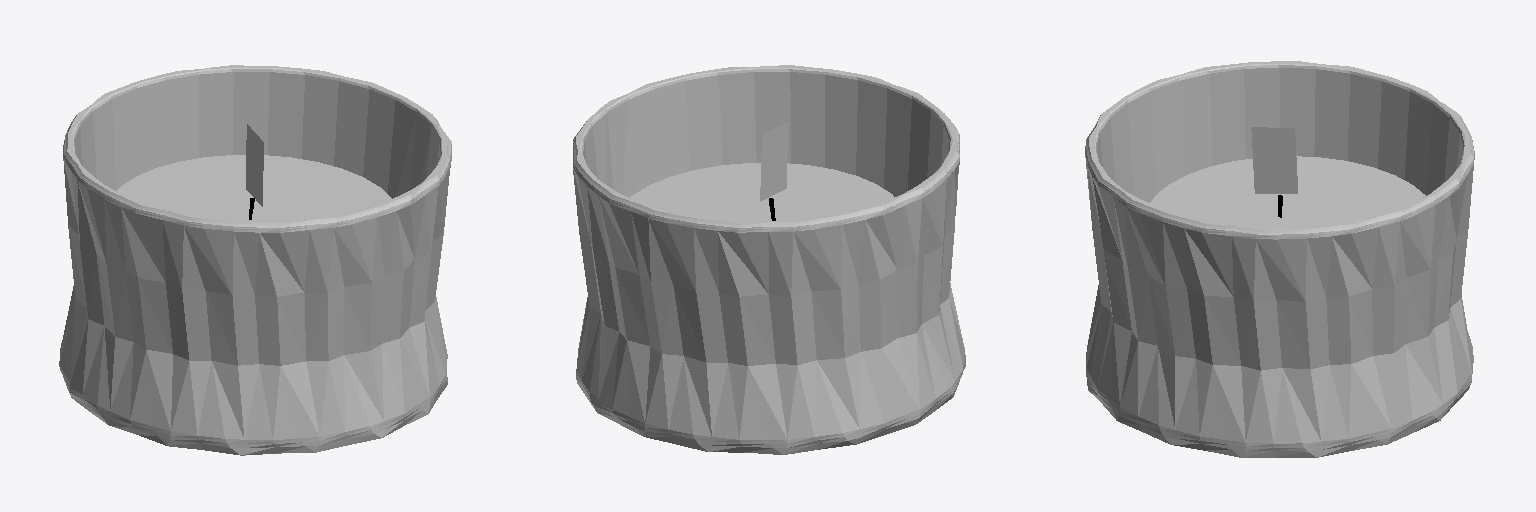
File: glass5.obj
3 views of the same model, side by side, from view 1: azimuth 30°, elevation 25°; view 2: azimuth 150°, elevation 25°; view 3: azimuth 270°, elevation 25° (orthographic).
Parts seen in each view (by area): view 1: 円, 円柱.004_円柱.006, 円柱.001_円柱.004; view 2: 円, 円柱.004_円柱.006, 円柱.001_円柱.004; view 3: 円, 円柱.004_円柱.006, 円柱.001_円柱.004.
Part boxes in pixels (left/top/right/bottom): 円: left=59, top=65, right=451, bottom=455; 円柱.004_円柱.006: left=117, top=155, right=391, bottom=220; 円柱.001_円柱.004: left=246, top=124, right=263, bottom=206; 円: left=573, top=65, right=965, bottom=454; 円柱.004_円柱.006: left=630, top=163, right=893, bottom=220; 円柱.001_円柱.004: left=760, top=122, right=788, bottom=201; 円: left=1085, top=61, right=1474, bottom=457; 円柱.004_円柱.006: left=1150, top=156, right=1425, bottom=226; 円柱.001_円柱.004: left=1251, top=127, right=1297, bottom=193.
Size of the model in its own units: 2.34 by 1.67 by 2.32.